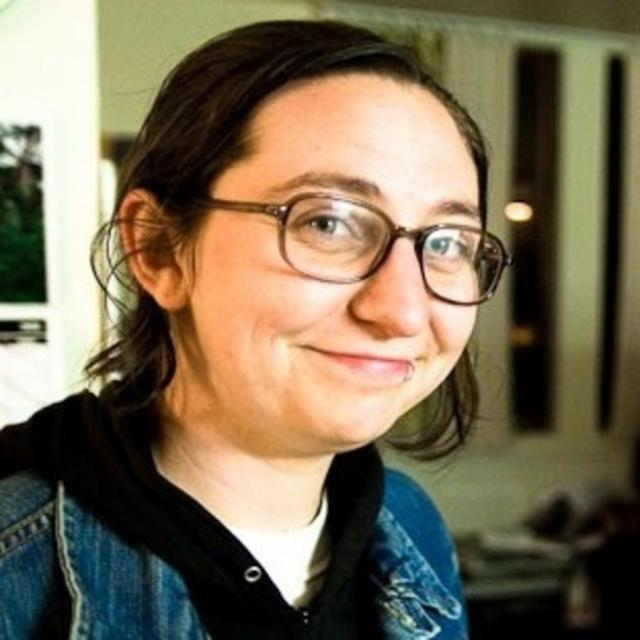closed-mouth: (289, 340, 421, 395)
